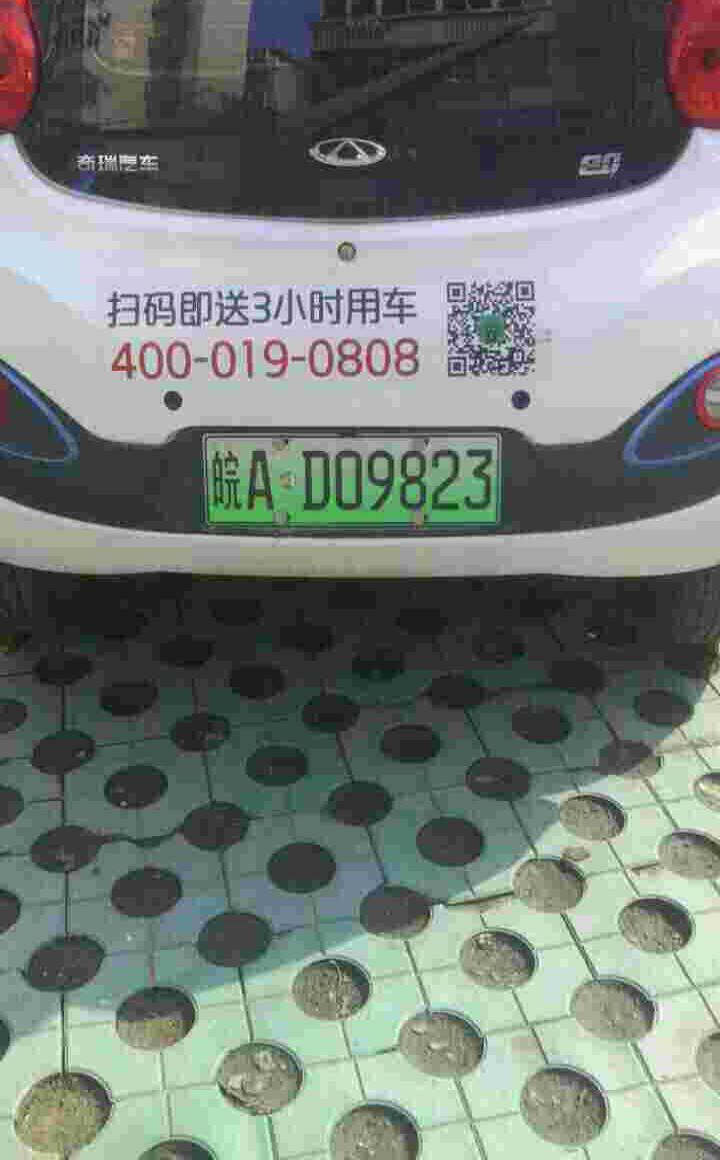car_green: (197, 426, 510, 532)
